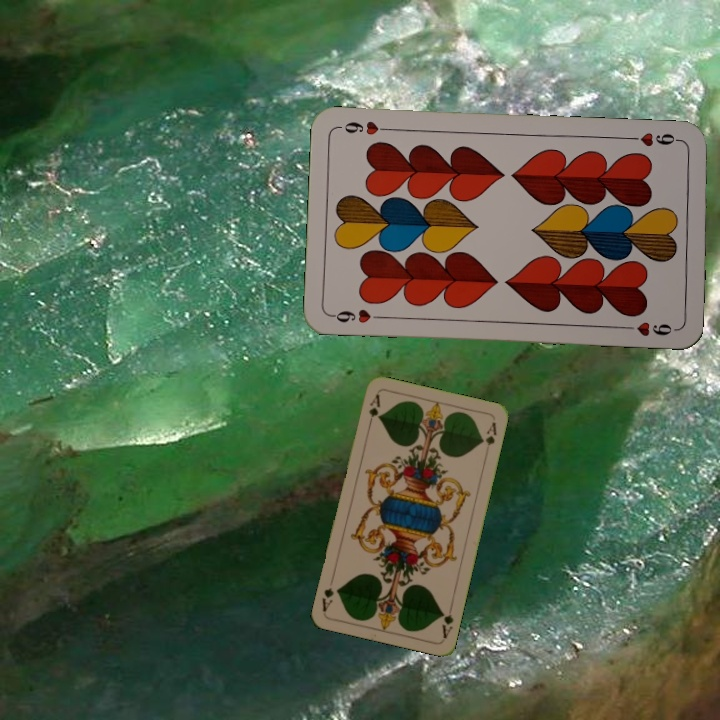GA: (437, 601, 456, 641), (364, 390, 383, 430)
H9: (328, 305, 387, 326), (625, 128, 684, 149)
